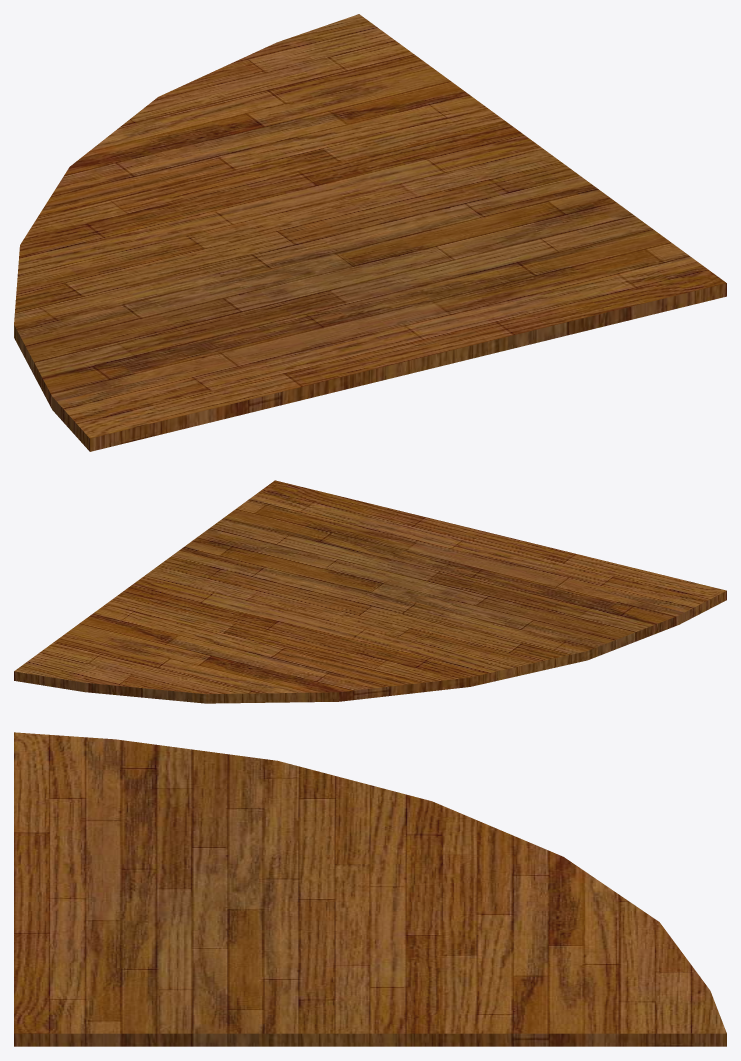
Rendered from floor_corner_2.fbx.
3 views of the same model, one above another, from view 1: azimuth 30°, elevation 25°; view 2: azimuth 150°, elevation 25°; view 3: azimuth 270°, elevation 25° (orthographic). The views are drawn at different scales.
Parts seen in each view (by area): view 1: Plane.002; view 2: Plane.002; view 3: Plane.002.
Part boxes in pixels (left/top/right/bottom): Plane.002: left=14, top=14, right=726, bottom=451; Plane.002: left=14, top=480, right=726, bottom=703; Plane.002: left=14, top=732, right=726, bottom=1046.
Size of the model in its own units: 5 by 5 by 0.1.
Materials: 1 (1 with a texture image).
